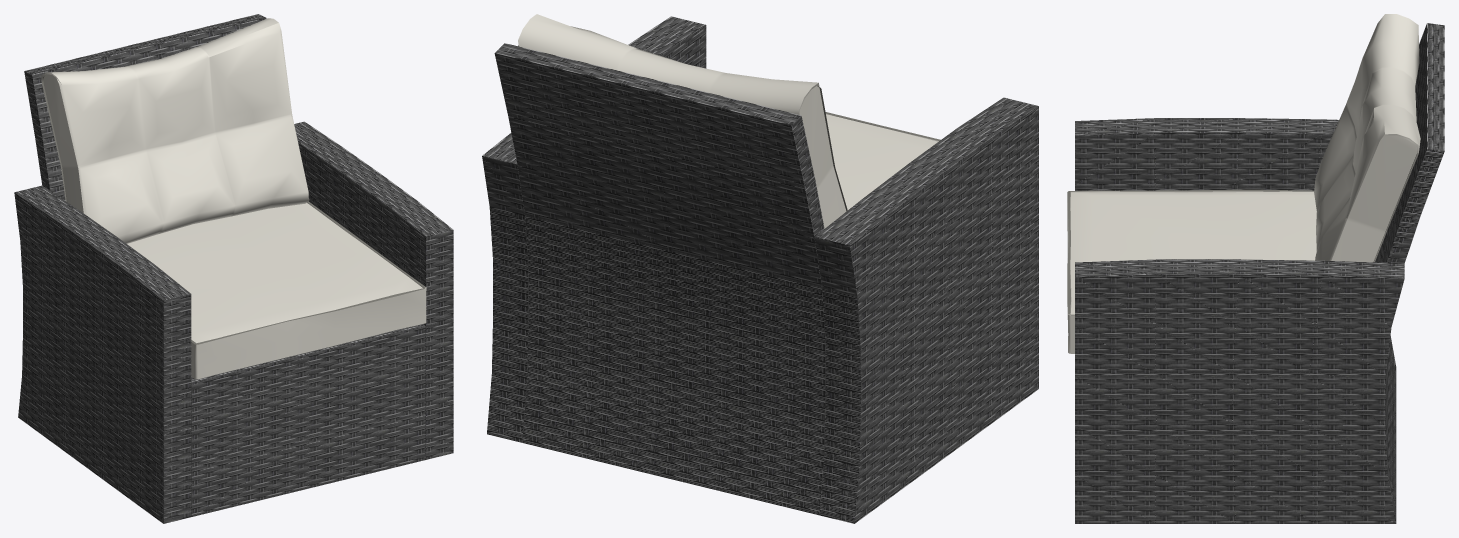
Rendered from armchair25.glb.
3 views of the same model, side by side, from view 1: azimuth 30°, elevation 25°; view 2: azimuth 150°, elevation 25°; view 3: azimuth 270°, elevation 25° (orthographic). The views are drawn at different scales.
Visible parts, largest first — view 1: Object_2, Object_3, Object_4; view 2: Object_2, Object_3; view 3: Object_2, Object_3, Object_4.
Part boxes in pixels (left/top/right/bottom): Object_2: left=14, top=14, right=453, bottom=523; Object_3: left=41, top=18, right=426, bottom=379; Object_4: left=42, top=74, right=425, bottom=344; Object_2: left=482, top=16, right=1038, bottom=523; Object_3: left=518, top=14, right=939, bottom=228; Object_2: left=1075, top=23, right=1444, bottom=523; Object_3: left=1067, top=14, right=1420, bottom=353; Object_4: left=1067, top=153, right=1417, bottom=315.
Bounding box in the file's own units: 71.04 × 78.71 × 72.45.
3 materials, 1 textured.
